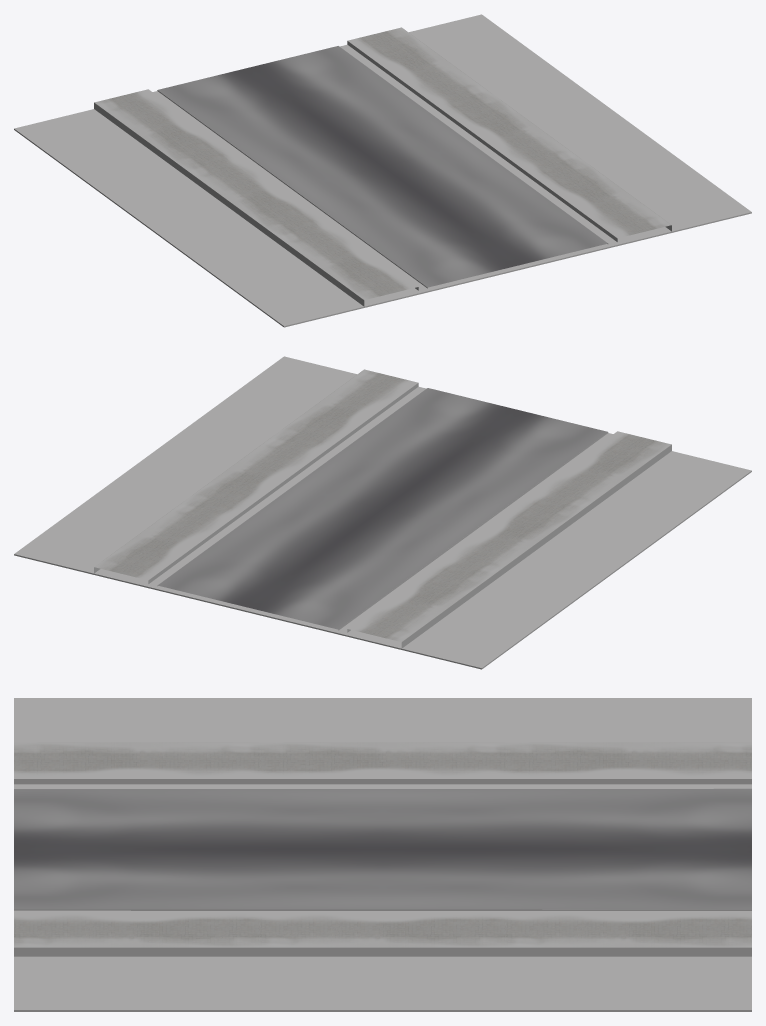
Rendered from Straight_Road.fbx.
The picture shows the model from 3 angles, top to bottom: view 1: azimuth 30°, elevation 25°; view 2: azimuth 150°, elevation 25°; view 3: azimuth 270°, elevation 25°; orthographic projection. The views are drawn at different scales.
Parts seen in each view (by area): view 1: Road_10X24, Road_10X55; view 2: Road_10X24, Road_10X55; view 3: Road_10X24, Road_10X55.
Part boxes in pixels (box(x1,y1,x2,y2)): Road_10X24: box(94, 27, 671, 306); Road_10X55: box(14, 14, 751, 327); Road_10X24: box(94, 369, 671, 648); Road_10X55: box(14, 356, 751, 669); Road_10X24: box(14, 742, 751, 956); Road_10X55: box(14, 698, 751, 1011).
Size of the model in its own units: 1000 by 16 by 1000.
